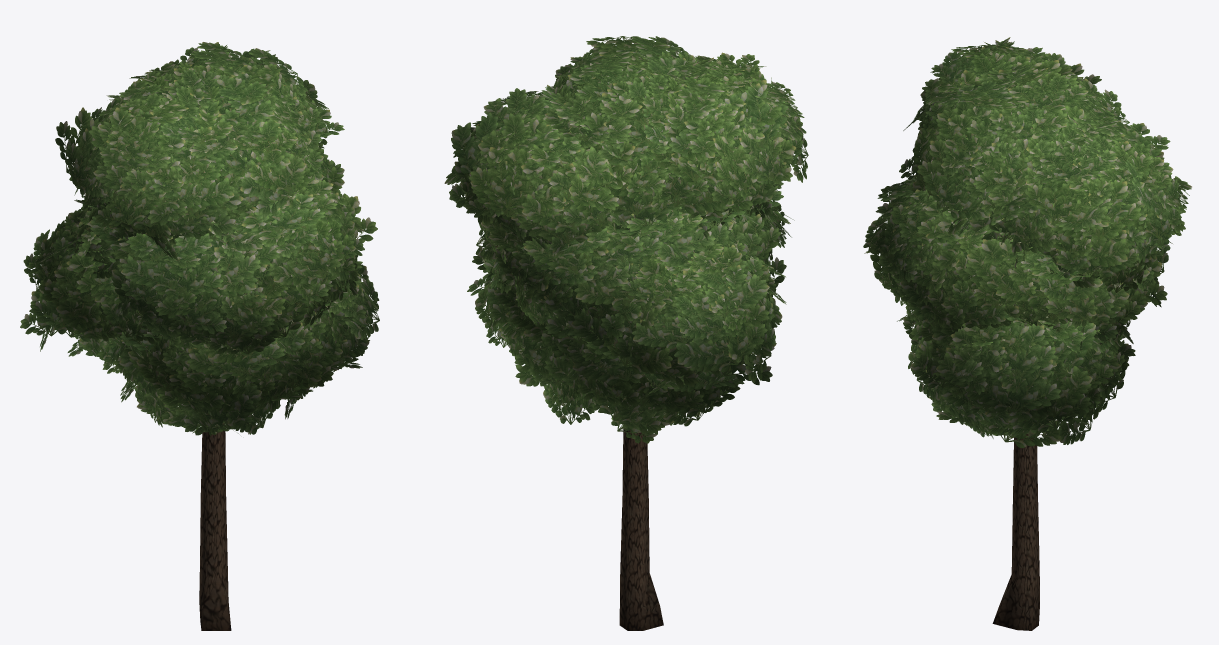
Rendered from sundari_b_lod1.glb.
3 views of the same model, side by side, from view 1: azimuth 30°, elevation 25°; view 2: azimuth 150°, elevation 25°; view 3: azimuth 270°, elevation 25° (orthographic). The views are drawn at different scales.
Parts seen in each view (by area): view 1: leaves, wood; view 2: leaves, wood; view 3: leaves, wood.
Part boxes in pixels (<box>): leaves: <box>20,42,379,435</box>; wood: <box>199,423,231,630</box>; leaves: <box>444,36,808,443</box>; wood: <box>619,421,663,630</box>; leaves: <box>863,37,1191,448</box>; wood: <box>992,434,1039,630</box>.
Size of the model in its own units: 8.45 by 14.36 by 8.08.
Materials: 2 (2 with a texture image).
